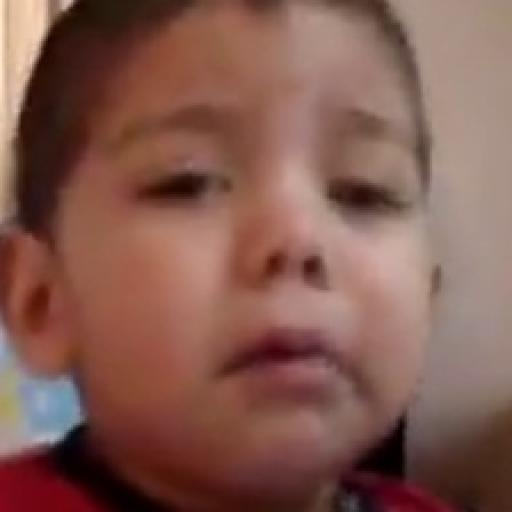Autism: (46, 21, 461, 484)
